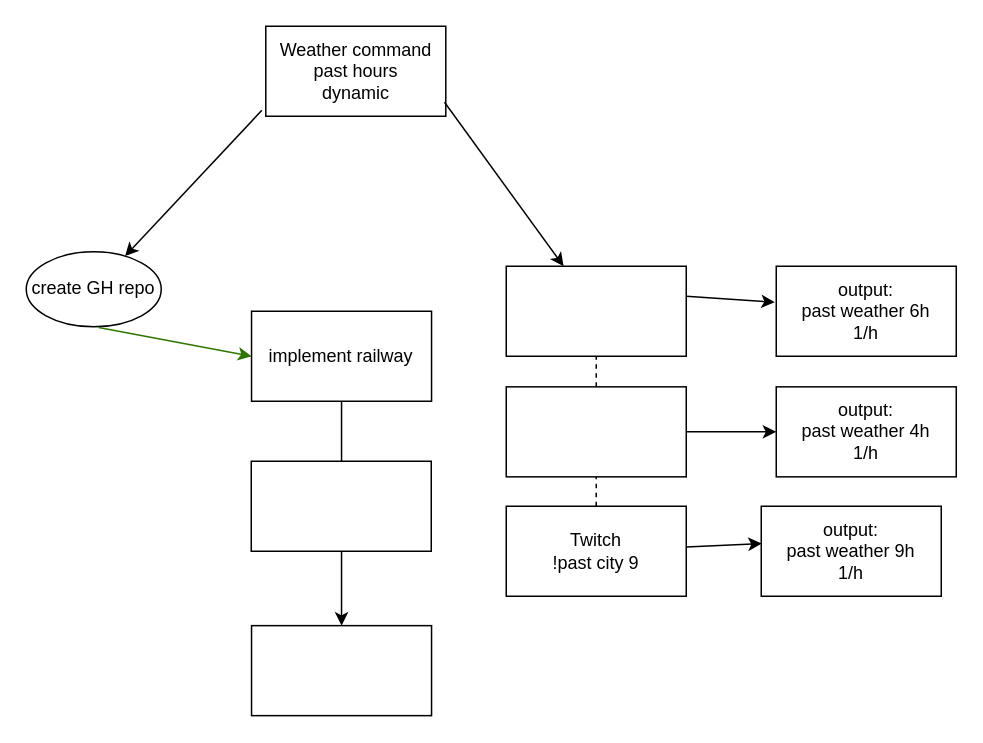
Image size: 983x743. Some labels were removed from this diagram. Each missing label, with the box of its shape:
API - links: (250, 460, 431, 551)
Twitch !past city 4: (505, 385, 686, 477)
Twitch !past city 6: (505, 265, 686, 356)
